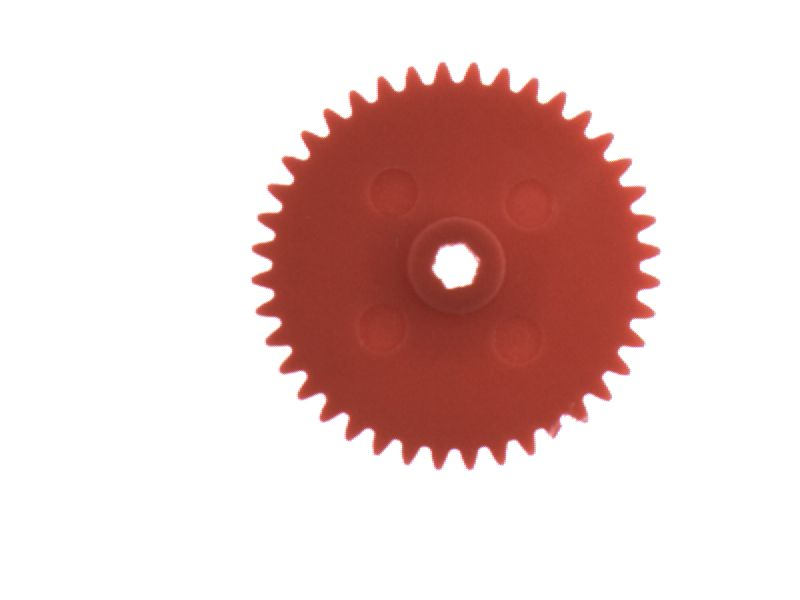defect_break: (529, 413, 582, 457)
